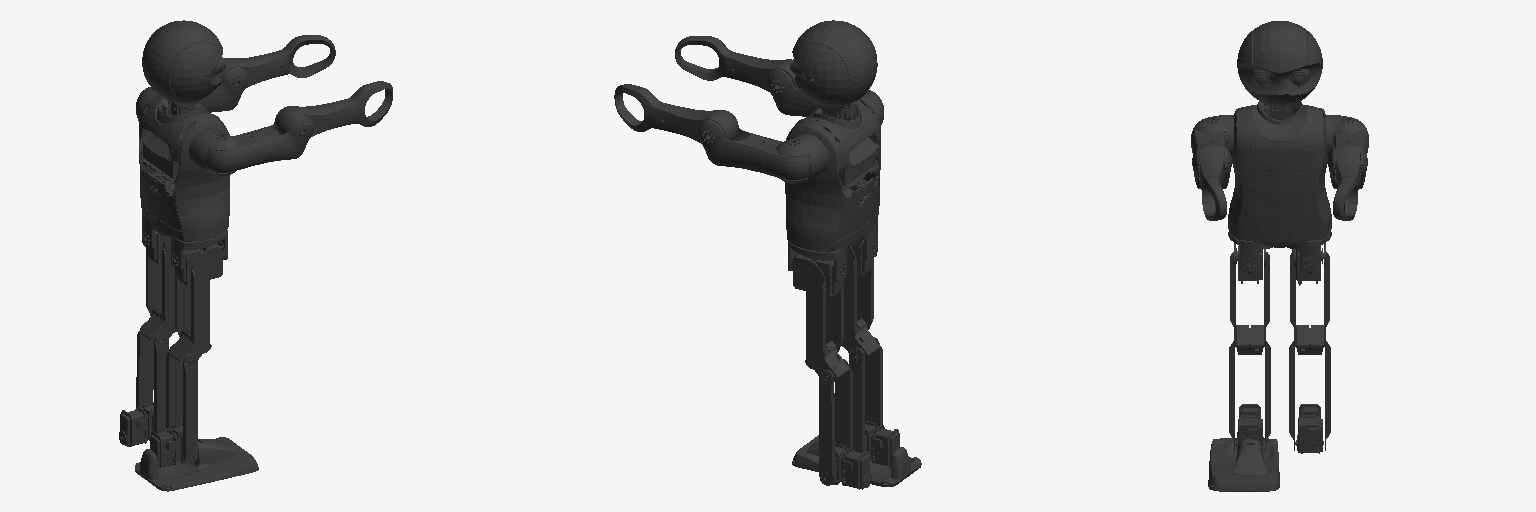
--- Render facts (derived) ---
The picture shows the robot from 3 angles, left to right: view 1: azimuth 30°, elevation 25°; view 2: azimuth 150°, elevation 25°; view 3: azimuth 270°, elevation 25°; orthographic projection.
Model onshape with 25 links and 24 joints (20 revolute, 4 fixed), rooted at torso, posed all joints at 0.
Links seen in each view (by area): view 1: torso, head, right_foot, right_upper_leg, right_upper_arm, right_lower_arm, right_lower_leg, left_lower_arm, left_upper_leg, left_lower_leg, left_upper_arm, left_ankle (+4 smaller); view 2: torso, head, left_upper_leg, left_upper_arm, left_lower_arm, left_lower_leg, right_lower_arm, right_upper_leg, right_lower_leg, right_foot, left_ankle, right_upper_arm (+4 smaller); view 3: torso, head, right_foot, left_upper_leg, right_upper_leg, left_lower_arm, right_lower_arm, left_ankle, right_lower_leg, left_lower_leg, left_upper_arm, right_upper_arm (+5 smaller).
Boxes of the visible links, left/top/right/bottom form: torso: left=139, top=95, right=229, bottom=241; head: left=142, top=20, right=225, bottom=108; right_foot: left=135, top=437, right=258, bottom=491; right_upper_leg: left=169, top=247, right=224, bottom=366; right_upper_arm: left=206, top=106, right=313, bottom=172; right_lower_arm: left=275, top=81, right=392, bottom=136; right_lower_leg: left=166, top=343, right=197, bottom=464; left_lower_arm: left=217, top=35, right=335, bottom=89; left_upper_leg: left=140, top=236, right=176, bottom=343; left_lower_leg: left=136, top=322, right=168, bottom=433; left_upper_arm: left=136, top=67, right=247, bottom=112; left_ankle: left=119, top=402, right=153, bottom=446; torso: left=785, top=98, right=880, bottom=251; head: left=790, top=20, right=877, bottom=112; left_upper_leg: left=791, top=258, right=849, bottom=383; left_upper_arm: left=697, top=110, right=809, bottom=179; left_lower_arm: left=614, top=84, right=737, bottom=143; left_lower_leg: left=819, top=359, right=852, bottom=485; right_lower_arm: left=675, top=36, right=798, bottom=91; right_upper_leg: left=842, top=246, right=879, bottom=360; right_lower_leg: left=849, top=337, right=882, bottom=452; right_foot: left=792, top=435, right=921, bottom=486; left_ankle: left=824, top=443, right=871, bottom=489; right_upper_arm: left=767, top=69, right=883, bottom=116; torso: left=1228, top=101, right=1331, bottom=247; head: left=1237, top=21, right=1322, bottom=105; right_foot: left=1208, top=432, right=1279, bottom=491; left_upper_leg: left=1290, top=243, right=1329, bottom=354; right_upper_leg: left=1230, top=243, right=1269, bottom=354; left_lower_arm: left=1333, top=144, right=1359, bottom=220; right_lower_arm: left=1200, top=144, right=1226, bottom=220; left_ankle: left=1295, top=404, right=1323, bottom=453; right_lower_leg: left=1229, top=341, right=1270, bottom=450; left_lower_leg: left=1289, top=341, right=1330, bottom=450; left_upper_arm: left=1328, top=127, right=1368, bottom=189; right_upper_arm: left=1191, top=127, right=1231, bottom=189.
Bounding box of the posed robot: 0.5139 × 0.3288 × 0.9021 m (x, y, z).
Meshes: 25 distinct files referenced, 24 mesh visuals loaded (24 binary STL); not drawn: 1 (reference not matched to a file when rendering).

robot.urdf — onshape:
<robot name="onshape">
<link name="torso">
<visual>
<origin xyz="0 0 0" rpy="0 -0 0" />
<geometry>
<mesh filename="torso_visual.stl" />
</geometry>
<material name="torso_material">
<color rgba="0.286275 0.286275 0.286275 1.0" />
</material>
</visual>
<collision>
<origin xyz="-0.0020010285079479218 -1.0497868061065674e-05 0.1085677845403552" rpy="0 -0 0" />
<geometry>
<box size="0.13950913399457932 0.1899828165769577 0.2618043217808008" /></geometry>
<material name="torso_material">
<color rgba="0.5 0.5 0.5 1.0" />
</material>
</collision>
<inertial>
<origin xyz="-0.000971341 -7.63301e-05 0.0898493" rpy="0 0 0" />
<mass value="1.83264" />
<inertia ixx="0.0154924" ixy="9.19136e-05" ixz="-0.00117023" iyy="0.0131549" iyz="2.21205e-06" izz="0.00592676" />
</inertial>
</link>

<link name="left_hip_yaw">
<visual>
<origin xyz="0 0 0" rpy="0 -0 0" />
<geometry>
<mesh filename="left_hip_yaw_visual.stl" />
</geometry>
<material name="left_hip_yaw_material">
<color rgba="0.286275 0.286275 0.286275 1.0" />
</material>
</visual>
<collision>
<origin xyz="0.0 -0.0072372425347566605 -0.03674998944263397" rpy="0 -0 0" />
<geometry>
<box size="0.10850000381469727 0.09402551129460335 0.07350000609436158" /></geometry>
<material name="left_hip_yaw_material">
<color rgba="0.5 0.5 0.5 1.0" />
</material>
</collision>
<inertial>
<origin xyz="-0.0021828 -0.00894798 -0.0247563" rpy="0 0 0" />
<mass value="0.0594023" />
<inertia ixx="0.000118627" ixy="-4.66981e-07" ixz="-1.50388e-06" iyy="5.24124e-05" iyz="1.01414e-07" izz="0.000103641" />
</inertial>
</link>

<link name="left_hip_roll">
<visual>
<origin xyz="0 0 0" rpy="0 -0 0" />
<geometry>
<mesh filename="left_hip_roll_visual.stl" />
</geometry>
<material name="left_hip_roll_material">
<color rgba="0.286275 0.286275 0.286275 1.0" />
</material>
</visual>
<collision>
<origin xyz="0.021138235460966825 0.0013499995693564415 -0.026825002394616604" rpy="0 -0 0" />
<geometry>
<box size="0.07245294097810984 0.05529999919235706 0.09385000355541706" /></geometry>
<material name="left_hip_roll_material">
<color rgba="0.5 0.5 0.5 1.0" />
</material>
</collision>
<inertial>
<origin xyz="0.015733 -0.000686158 -0.0217073" rpy="0 0 0" />
<mass value="0.395953" />
<inertia ixx="0.000314298" ixy="1.5275e-09" ixz="9.81372e-18" iyy="0.000375808" iyz="5.62038e-06" izz="0.000127785" />
</inertial>
</link>

<link name="left_upper_leg">
<visual>
<origin xyz="0 0 0" rpy="0 -0 0" />
<geometry>
<mesh filename="left_upper_leg_visual.stl" />
</geometry>
<material name="left_upper_leg_material">
<color rgba="0.286275 0.286275 0.286275 1.0" />
</material>
</visual>
<collision>
<origin xyz="0.10306360386312008 0.030367384664714336 0.0" rpy="0 -0 0" />
<geometry>
<box size="0.2462693639099598 0.09347053803503513 0.0729999989271164" /></geometry>
<material name="left_upper_leg_material">
<color rgba="0.5 0.5 0.5 1.0" />
</material>
</collision>
<inertial>
<origin xyz="0.144296 0.0401097 0.000258488" rpy="0 0 0" />
<mass value="0.313357" />
<inertia ixx="0.000224379" ixy="-0.00012767" ixz="-4.07576e-06" iyy="0.00166178" iyz="-8.94105e-07" izz="0.00160067" />
</inertial>
</link>

<link name="left_lower_leg">
<visual>
<origin xyz="0 0 0" rpy="0 -0 0" />
<geometry>
<mesh filename="left_lower_leg_visual.stl" />
</geometry>
<material name="left_lower_leg_material">
<color rgba="0.286275 0.286275 0.286275 1.0" />
</material>
</visual>
<collision>
<origin xyz="0.10010144207626581 0.0010000001639127731 0.0" rpy="0 -0 0" />
<geometry>
<box size="0.2292028944939375 0.03099999949336052 0.07800000160932541" /></geometry>
<material name="left_lower_leg_material">
<color rgba="0.5 0.5 0.5 1.0" />
</material>
</collision>
<inertial>
<origin xyz="0.1001 0.00388186 -1.61259e-08" rpy="0 0 0" />
<mass value="0.0893011" />
<inertia ixx="9.01254e-05" ixy="1.57184e-09" ixz="-7.87158e-11" iyy="0.000408951" iyz="1.16101e-11" izz="0.0003363" />
</inertial>
</link>

<link name="left_ankle">
<visual>
<origin xyz="0 0 0" rpy="0 -0 0" />
<geometry>
<mesh filename="left_ankle_visual.stl" />
</geometry>
<material name="left_ankle_material">
<color rgba="0.286275 0.286275 0.286275 1.0" />
</material>
</visual>
<collision>
<origin xyz="-0.01775588234886527 0.027093998156487942 -0.0016675600782036781" rpy="0 -0 0" />
<geometry>
<box size="0.06568823475390673 0.09438799507915974 0.05529999919235706" /></geometry>
<material name="left_ankle_material">
<color rgba="0.5 0.5 0.5 1.0" />
</material>
</collision>
<inertial>
<origin xyz="-0.015733 0.0219762 0.000512596" rpy="0 0 0" />
<mass value="0.329993" />
<inertia ixx="0.000265762" ixy="1.27304e-09" ixz="1.21168e-18" iyy="0.000157847" iyz="3.6829e-06" izz="0.000265677" />
</inertial>
</link>

<link name="left_foot">
<visual>
<origin xyz="0 0 0" rpy="0 -0 0" />
<geometry>
<mesh filename="left_foot_visual.stl" />
</geometry>
<material name="left_foot_material">
<color rgba="0.286275 0.286275 0.286275 1.0" />
</material>
</visual>
<collision>
<origin xyz="0.00950343906879425 0.010943666100502014 0.02115987241268158" rpy="0 -0 0" />
<geometry>
<box size="0.05699313431978226 0.13158147037029266 0.21582108736038208" /></geometry>
<material name="left_foot_material">
<color rgba="0.5 0.5 0.5 1.0" />
</material>
</collision>
<inertial>
<origin xyz="0.0248226 0.00798542 0.033284" rpy="0 0 0" />
<mass value="0.245581" />
<inertia ixx="0.00134722" ixy="-9.73697e-06" ixz="2.7382e-08" iyy="0.00108383" iyz="-1.34065e-05" izz="0.000332029" />
</inertial>
</link>

<link name="left_foot_base">
<visual>
<origin xyz="0 0 0" rpy="0 -0 0" />
<geometry>
<mesh filename="left_foot_base_visual.stl" />
</geometry>
<material name="left_foot_base_material">
<color rgba="0.615686 0.811765 0.929412 1.0" />
</material>
</visual>
<collision>
<origin xyz="0.0 0.0 4.999999873689376e-06" rpy="0 -0 0" />
<geometry>
<box size="9.999999747378752e-06 1.0163475963054225e-05 9.999999747378752e-06" /></geometry>
<material name="left_foot_base_material">
<color rgba="0.5 0.5 0.5 1.0" />
</material>
</collision>
<inertial>
<origin xyz="1.38778e-17 -3.77599e-35 5e-06" rpy="0 0 0" />
<mass value="1.01635e-23" />
<inertia ixx="0" ixy="0" ixz="0" iyy="0" iyz="0" izz="0" />
</inertial>
</link>

<joint name="left_foot_base" type="fixed">
<origin xyz="0.038 0 0" rpy="-2.39955e-29 -1.5708 0" />
<parent link="left_foot" />
<child link="left_foot_base" />
<axis xyz="0 0 1" />
<limit effort="1" velocity="20" />
<joint_properties friction="0.0" />
</joint>

<joint name="left_ankle_roll" type="revolute">
<origin xyz="0 -1.38778e-17 -2.08167e-17" rpy="1.5708 6.70375e-15 -2.75955e-14" />
<parent link="left_ankle" />
<child link="left_foot" />
<axis xyz="0 0 1" />
<limit effort="1" velocity="20" lower="-3.14159" upper="3.14159" />
<joint_properties friction="0.0" />
</joint>

<joint name="left_ankle_pitch" type="revolute">
<origin xyz="0.200203 -3.46945e-17 0" rpy="-9.74385e-15 5.86234e-16 -1.54846e-15" />
<parent link="left_lower_leg" />
<child link="left_ankle" />
<axis xyz="0 0 1" />
<limit effort="1" velocity="20" lower="-3.14159" upper="3.14159" />
<joint_properties friction="0.0" />
</joint>

<joint name="left_knee_pitch" type="revolute">
<origin xyz="0.206046 0.0569501 -1.44676e-14" rpy="-3.82657e-14 -3.77567e-15 0.00480121" />
<parent link="left_upper_leg" />
<child link="left_lower_leg" />
<axis xyz="0 0 1" />
<limit effort="1" velocity="20" lower="-3.14159" upper="3.14159" />
<joint_properties friction="0.0" />
</joint>

<joint name="left_hip_pitch" type="revolute">
<origin xyz="1.38778e-17 0 -1.04083e-17" rpy="-1.5708 -1.78655e-11 3.29833e-14" />
<parent link="left_hip_roll" />
<child link="left_upper_leg" />
<axis xyz="0 0 1" />
<limit effort="1" velocity="20" lower="-3.14159" upper="3.14159" />
<joint_properties friction="0.0" />
</joint>

<joint name="left_hip_roll" type="revolute">
<origin xyz="0.0221332 2.91434e-16 -0.0545" rpy="6.66729e-21 1.5708 0" />
<parent link="left_hip_yaw" />
<child link="left_hip_roll" />
<axis xyz="0 0 1" />
<limit effort="1" velocity="20" lower="-3.14159" upper="3.14159" />
<joint_properties friction="0.0" />
</joint>

<joint name="left_hip_yaw" type="revolute">
<origin xyz="7.63278e-17 0.055 0" rpy="-5.43064e-25 -3.21985e-24 6.16346e-16" />
<parent link="torso" />
<child link="left_hip_yaw" />
<axis xyz="0 0 1" />
<limit effort="1" velocity="20" lower="-3.14159" upper="3.14159" />
<joint_properties friction="0.0" />
</joint>

<link name="right_hip_yaw">
<visual>
<origin xyz="0 0 0" rpy="0 -0 0" />
<geometry>
<mesh filename="right_hip_yaw_visual.stl" />
</geometry>
<material name="right_hip_yaw_material">
<color rgba="0.286275 0.286275 0.286275 1.0" />
</material>
</visual>
<collision>
<origin xyz="0.0 0.0072372425347566605 -0.03674998944263397" rpy="0 -0 0" />
<geometry>
<box size="0.10850000381469727 0.09402551129460335 0.07350000609436158" /></geometry>
<material name="right_hip_yaw_material">
<color rgba="0.5 0.5 0.5 1.0" />
</material>
</collision>
<inertial>
<origin xyz="-0.00218277 0.0089479 -0.0247564" rpy="0 0 0" />
<mass value="0.0594022" />
<inertia ixx="0.000118626" ixy="4.67166e-07" ixz="-1.50417e-06" iyy="5.24117e-05" iyz="-1.01073e-07" izz="0.000103641" />
</inertial>
</link>

<link name="right_hip_roll">
<visual>
<origin xyz="0 0 0" rpy="0 -0 0" />
<geometry>
<mesh filename="right_hip_roll_visual.stl" />
</geometry>
<material name="right_hip_roll_material">
<color rgba="0.286275 0.286275 0.286275 1.0" />
</material>
</visual>
<collision>
<origin xyz="0.018049999605864286 -0.003150000236928463 -0.026950000785291195" rpy="0 -0 0" />
<geometry>
<box size="0.06627646926790476 0.05529999919235706 0.09410000033676624" /></geometry>
<material name="right_hip_roll_material">
<color rgba="0.5 0.5 0.5 1.0" />
</material>
</collision>
<inertial>
<origin xyz="0.015733 -0.000232251 -0.0218286" rpy="0 0 0" />
<mass value="0.395953" />
<inertia ixx="0.000316367" ixy="-9.04561e-09" ixz="-5.97158e-20" iyy="0.000378025" iyz="1.97787e-06" izz="0.000127637" />
</inertial>
</link>

<link name="right_upper_leg">
<visual>
<origin xyz="0 0 0" rpy="0 -0 0" />
<geometry>
<mesh filename="right_upper_leg_visual.stl" />
</geometry>
<material name="right_upper_leg_material">
<color rgba="0.286275 0.286275 0.286275 1.0" />
</material>
</visual>
<collision>
<origin xyz="0.10306360386312008 0.030367384664714336 -1.862645149230957e-09" rpy="0 -0 0" />
<geometry>
<box size="0.2462693639099598 0.09347053803503513 0.07300000265240669" /></geometry>
<material name="right_upper_leg_material">
<color rgba="0.5 0.5 0.5 1.0" />
</material>
</collision>
<inertial>
<origin xyz="0.144343 0.0400917 -0.000278506" rpy="0 0 0" />
<mass value="0.313809" />
<inertia ixx="0.000224588" ixy="-0.000159275" ixz="4.71407e-06" iyy="0.0016624" iyz="8.15625e-07" izz="0.0016013" />
</inertial>
</link>

<link name="right_lower_leg">
<visual>
<origin xyz="0 0 0" rpy="0 -0 0" />
<geometry>
<mesh filename="right_lower_leg_visual.stl" />
</geometry>
<material name="right_lower_leg_material">
<color rgba="0.286275 0.286275 0.286275 1.0" />
</material>
</visual>
<collision>
<origin xyz="0.10010144487023354 0.0010000001639127731 0.0" rpy="0 -0 0" />
<geometry>
<box size="0.22920288890600204 0.03099999949336052 0.07800000160932541" /></geometry>
<material name="right_lower_leg_material">
<color rgba="0.5 0.5 0.5 1.0" />
</material>
</collision>
<inertial>
<origin xyz="0.100103 0.00388186 1.61259e-08" rpy="0 0 0" />
<mass value="0.0893011" />
<inertia ixx="9.01254e-05" ixy="-1.57184e-09" ixz="-7.87158e-11" iyy="0.000408951" iyz="-1.16101e-11" izz="0.0003363" />
</inertial>
</link>

<link name="right_ankle">
<visual>
<origin xyz="0 0 0" rpy="0 -0 0" />
<geometry>
<mesh filename="right_ankle_visual.stl" />
</geometry>
<material name="right_ankle_material">
<color rgba="0.286275 0.286275 0.286275 1.0" />
</material>
</visual>
<collision>
<origin xyz="-0.017755881883203983 0.026943995617330074 -0.0016675600782036781" rpy="0 -0 0" />
<geometry>
<box size="0.0656882356852293 0.094087990000844 0.05529999919235706" /></geometry>
<material name="right_ankle_material">
<color rgba="0.5 0.5 0.5 1.0" />
</material>
</collision>
<inertial>
<origin xyz="-0.015733 0.0218226 0.000508968" rpy="0 0 0" />
<mass value="0.329993" />
<inertia ixx="0.000263648" ixy="7.53715e-09" ixz="2.47334e-19" iyy="0.000157848" iyz="3.69071e-06" izz="0.000263561" />
</inertial>
</link>

<link name="right_foot">
<visual>
<origin xyz="0 0 0" rpy="0 -0 0" />
<geometry>
<mesh filename="right_foot_visual.stl" />
</geometry>
<material name="right_foot_material">
<color rgba="0.286275 0.286275 0.286275 1.0" />
</material>
</visual>
<collision>
<origin xyz="0.009506719186902046 -0.010944709181785583 0.021159902215003967" rpy="0 -0 0" />
<geometry>
<box size="0.056986574083566666 0.13157938420772552 0.21582114696502686" /></geometry>
<material name="right_foot_material">
<color rgba="0.5 0.5 0.5 1.0" />
</material>
</collision>
<inertial>
<origin xyz="0.024823 -0.00798676 0.0332808" rpy="0 0 0" />
<mass value="0.245567" />
<inertia ixx="0.00134712" ixy="9.73589e-06" ixz="2.22656e-08" iyy="0.00108376" iyz="1.34039e-05" izz="0.000331997" />
</inertial>
</link>

<link name="right_foot_base">
<visual>
<origin xyz="0 0 0" rpy="0 -0 0" />
<geometry>
<mesh filename="right_foot_base_visual.stl" />
</geometry>
<material name="right_foot_base_material">
<color rgba="0.615686 0.811765 0.929412 1.0" />
</material>
</visual>
<collision>
<origin xyz="0.0 0.0 4.999999873689376e-06" rpy="0 -0 0" />
<geometry>
<box size="9.999999747378752e-06 1.0163475963054225e-05 9.999999747378752e-06" /></geometry>
<material name="right_foot_base_material">
<color rgba="0.5 0.5 0.5 1.0" />
</material>
</collision>
<inertial>
<origin xyz="0 0 5e-06" rpy="0 0 0" />
<mass value="1.01635e-23" />
<inertia ixx="0" ixy="0" ixz="0" iyy="0" iyz="0" izz="0" />
</inertial>
</link>

<joint name="right_foot_base" type="fixed">
<origin xyz="0.038 0 6.93889e-18" rpy="-1.26218e-29 -1.5708 0" />
<parent link="right_foot" />
<child link="right_foot_base" />
<axis xyz="0 0 1" />
<limit effort="1" velocity="20" />
<joint_properties friction="0.0" />
</joint>

<joint name="right_ankle_roll" type="revolute">
<origin xyz="1.27676e-15 1.249e-16 -8.46545e-16" rpy="1.5708 -1.11022e-15 7.94382e-15" />
<parent link="right_ankle" />
<child link="right_foot" />
<axis xyz="0 0 1" />
<limit effort="1" velocity="20" lower="-3.14159" upper="3.14159" />
<joint_properties friction="0.0" />
</joint>

<joint name="right_ankle_pitch" type="revolute">
<origin xyz="0.200203 4.85723e-17 -6.93889e-18" rpy="1.88738e-15 -2.83277e-16 1.06524e-14" />
<parent link="right_lower_leg" />
<child link="right_ankle" />
<axis xyz="0 0 1" />
<limit effort="1" velocity="20" lower="-3.14159" upper="3.14159" />
<joint_properties friction="0.0" />
</joint>

<joint name="right_knee_pitch" type="revolute">
<origin xyz="0.206046 0.0569501 -7.16788e-15" rpy="-7.0209e-15 3.9968e-14 -5.66214e-15" />
<parent link="right_upper_leg" />
<child link="right_lower_leg" />
<axis xyz="0 0 1" />
<limit effort="1" velocity="20" lower="-3.14159" upper="3.14159" />
<joint_properties friction="0.0" />
</joint>

<joint name="right_hip_pitch" type="revolute">
<origin xyz="-1.249e-16 0 3.81639e-17" rpy="-1.5708 -1.66533e-16 3.79139e-29" />
<parent link="right_hip_roll" />
<child link="right_upper_leg" />
<axis xyz="0 0 1" />
<limit effort="1" velocity="20" lower="-3.14159" upper="3.14159" />
<joint_properties friction="0.0" />
</joint>

<joint name="right_hip_roll" type="revolute">
<origin xyz="0.0221332 0 -0.0545" rpy="1.36238e-31 1.5708 0" />
<parent link="right_hip_yaw" />
<child link="right_hip_roll" />
<axis xyz="0 0 1" />
<limit effort="1" velocity="20" lower="-3.14159" upper="3.14159" />
<joint_properties friction="0.0" />
</joint>

<joint name="right_hip_yaw" type="revolute">
<origin xyz="-6.93889e-18 -0.055 -5.55112e-17" rpy="-1.44515e-26 2.05167e-26 2.3927e-15" />
<parent link="torso" />
<child link="right_hip_yaw" />
<axis xyz="0 0 1" />
<limit effort="1" velocity="20" lower="-3.14159" upper="3.14159" />
<joint_properties friction="0.0" />
</joint>

<link name="neck">
<visual>
<origin xyz="0 0 0" rpy="0 -0 0" />
<geometry>
<mesh filename="neck_visual.stl" />
</geometry>
<material name="neck_material">
<color rgba="0.286275 0.286275 0.286275 1.0" />
</material>
</visual>
<collision>
<origin xyz="-0.00024471059441566467 -0.002755293622612953 0.030682351323775947" rpy="0 -0 0" />
<geometry>
<box size="0.04019999876618385 0.05000000074505806 0.062835298711434" /></geometry>
<material name="neck_material">
<color rgba="0.5 0.5 0.5 1.0" />
</material>
</collision>
<inertial>
<origin xyz="-0.000244686 -0.000118134 0.0329091" rpy="0 0 0" />
<mass value="0.165011" />
<inertia ixx="6.78379e-05" ixy="-3.83231e-11" ixz="-3.6907e-11" iyy="5.66275e-05" iyz="2.05608e-06" izz="3.85117e-05" />
</inertial>
</link>

<link name="head">
<visual>
<origin xyz="0 0 0" rpy="0 -0 0" />
<geometry>
<mesh filename="head_visual.stl" />
</geometry>
<material name="head_material">
<color rgba="0.286275 0.286275 0.286275 1.0" />
</material>
</visual>
<collision>
<origin xyz="-0.06592875579372048 -0.0043320730328559875 -0.00020501762628555298" rpy="0 -0 0" />
<geometry>
<box size="0.16223767679184675 0.15564338862895966 0.15779687464237213" /></geometry>
<material name="head_material">
<color rgba="0.5 0.5 0.5 1.0" />
</material>
</collision>
<inertial>
<origin xyz="-0.0665563 -0.0103216 -0.000100617" rpy="0 0 0" />
<mass value="0.473503" />
<inertia ixx="0.0019685" ixy="6.68987e-06" ixz="8.0299e-06" iyy="0.0014533" iyz="-1.73055e-07" izz="0.00107445" />
</inertial>
</link>

<link name="left_camera">
<visual>
<origin xyz="0 0 0" rpy="0 -0 0" />
<geometry>
<mesh filename="left_camera_visual.stl" />
</geometry>
<material name="left_camera_material">
<color rgba="0.615686 0.811765 0.929412 1.0" />
</material>
</visual>
<collision>
<origin xyz="0.0 0.0 4.999999873717131e-06" rpy="0 -0 0" />
<geometry>
<box size="9.999999747378752e-06 1.0163475963054225e-05 9.99999974732324e-06" /></geometry>
<material name="left_camera_material">
<color rgba="0.5 0.5 0.5 1.0" />
</material>
</collision>
<inertial>
<origin xyz="-1.38778e-17 1.2133e-35 5e-06" rpy="0 0 0" />
<mass value="1.01635e-15" />
<inertia ixx="0" ixy="0" ixz="0" iyy="2.4127e-81" iyz="0" izz="2.4127e-81" />
</inertial>
</link>

<joint name="left_camera" type="fixed">
<origin xyz="-0.0648803 -0.0699522 0.033795" rpy="1.5708 -1.63801e-13 -1.53589" />
<parent link="head" />
<child link="left_camera" />
<axis xyz="0 0 1" />
<limit effort="1" velocity="20" />
<joint_properties friction="0.0" />
</joint>

<link name="right_camera">
<visual>
<origin xyz="0 0 0" rpy="0 -0 0" />
<geometry>
<mesh filename="right_camera_visual.stl" />
</geometry>
<material name="right_camera_material">
<color rgba="0.615686 0.811765 0.929412 1.0" />
</material>
</visual>
<collision>
<origin xyz="0.0 0.0 4.999999873689376e-06" rpy="0 -0 0" />
<geometry>
<box size="9.999999747378752e-06 1.0163475963054225e-05 9.999999747378752e-06" /></geometry>
<material name="right_camera_material">
<color rgba="0.5 0.5 0.5 1.0" />
</material>
</collision>
<inertial>
<origin xyz="-6.93892e-18 3.23117e-35 5e-06" rpy="0 0 0" />
<mass value="1.01635e-23" />
<inertia ixx="0" ixy="0" ixz="0" iyy="0" iyz="0" izz="0" />
</inertial>
</link>

<joint name="right_camera" type="fixed">
<origin xyz="-0.0648803 -0.0699522 -0.034205" rpy="1.5708 -1.63801e-13 -1.53589" />
<parent link="head" />
<child link="right_camera" />
<axis xyz="0 0 1" />
<limit effort="1" velocity="20" />
<joint_properties friction="0.0" />
</joint>

<joint name="head_pitch" type="revolute">
<origin xyz="-0.00024471 -0.000255294 0.0481" rpy="1.5708 1.5708 0" />
<parent link="neck" />
<child link="head" />
<axis xyz="0 0 1" />
<limit effort="1" velocity="20" lower="-3.14159" upper="3.14159" />
<joint_properties friction="0.0" />
</joint>

<joint name="neck_yaw" type="revolute">
<origin xyz="-0.008 2.09034e-16 0.20825" rpy="-1.1045e-15 2.10942e-15 -3.14159" />
<parent link="torso" />
<child link="neck" />
<axis xyz="0 0 1" />
<limit effort="1" velocity="20" lower="-3.14159" upper="3.14159" />
<joint_properties friction="0.0" />
</joint>

<link name="left_shoulder">
<visual>
<origin xyz="0 0 0" rpy="0 -0 0" />
<geometry>
<mesh filename="left_shoulder_visual.stl" />
</geometry>
<material name="left_shoulder_material">
<color rgba="0.286275 0.286275 0.286275 1.0" />
</material>
</visual>
<collision>
<origin xyz="0.0 -0.0007210467010736465 0.039686582237482115" rpy="0 -0 0" />
<geometry>
<box size="0.07999999821186066 0.08144209161400795 0.0793731525540351" /></geometry>
<material name="left_shoulder_material">
<color rgba="0.5 0.5 0.5 1.0" />
</material>
</collision>
<inertial>
<origin xyz="-3.61374e-05 -0.00254925 0.0287427" rpy="0 0 0" />
<mass value="0.0845502" />
<inertia ixx="7.30295e-05" ixy="1.04146e-07" ixz="-7.55192e-08" iyy="9.74311e-05" iyz="-3.99116e-06" izz="9.33613e-05" />
</inertial>
</link>

<link name="left_upper_arm">
<visual>
<origin xyz="0 0 0" rpy="0 -0 0" />
<geometry>
<mesh filename="left_upper_arm_visual.stl" />
</geometry>
<material name="left_upper_arm_material">
<color rgba="0.286275 0.286275 0.286275 1.0" />
</material>
</visual>
<collision>
<origin xyz="0.07303228229284286 -1.3921409845352173e-05 0.010696256533265114" rpy="0 -0 0" />
<geometry>
<box size="0.22483809292316437 0.07902275025844574 0.08959516510367393" /></geometry>
<material name="left_upper_arm_material">
<color rgba="0.5 0.5 0.5 1.0" />
</material>
</collision>
<inertial>
<origin xyz="0.045902 0.000372495 9.27204e-06" rpy="0 0 0" />
<mass value="0.29923" />
<inertia ixx="0.000626399" ixy="2.62861e-05" ixz="-3.50557e-05" iyy="0.000588449" iyz="6.36267e-06" izz="0.000985251" />
</inertial>
</link>

<link name="left_lower_arm">
<visual>
<origin xyz="0 0 0" rpy="0 -0 0" />
<geometry>
<mesh filename="left_lower_arm_visual.stl" />
</geometry>
<material name="left_lower_arm_material">
<color rgba="0.286275 0.286275 0.286275 1.0" />
</material>
</visual>
<collision>
<origin xyz="-0.0024787113070487976 -0.09564930573105812 -0.0025215083733201027" rpy="0 -0 0" />
<geometry>
<box size="0.08257202059030533 0.25829844921827316 0.050921617075800896" /></geometry>
<material name="left_lower_arm_material">
<color rgba="0.5 0.5 0.5 1.0" />
</material>
</collision>
<inertial>
<origin xyz="-0.000605553 -0.0509966 6.9181e-05" rpy="0 0 0" />
<mass value="0.287325" />
<inertia ixx="0.000778471" ixy="-5.29345e-05" ixz="1.09973e-05" iyy="0.000543727" iyz="3.47398e-05" izz="0.0011506" />
</inertial>
</link>

<joint name="left_elbow_pitch" type="revolute">
<origin xyz="0.1575 -5.57465e-05 0.02695" rpy="-1.5708 1.5708 0" />
<parent link="left_upper_arm" />
<child link="left_lower_arm" />
<axis xyz="0 0 1" />
<limit effort="1" velocity="20" lower="-3.14159" upper="3.14159" />
<joint_properties friction="0.0" />
</joint>

<joint name="left_shoulder_roll" type="revolute">
<origin xyz="0 -0.0100012 0.0479124" rpy="1.5708 3.06087e-14 -1.5708" />
<parent link="left_shoulder" />
<child link="left_upper_arm" />
<axis xyz="0 0 1" />
<limit effort="1" velocity="20" lower="-3.14159" upper="3.14159" />
<joint_properties friction="0.0" />
</joint>

<joint name="left_shoulder_pitch" type="revolute">
<origin xyz="-5.659e-18 0.077 0.17725" rpy="-1.5708 1.5708 0" />
<parent link="torso" />
<child link="left_shoulder" />
<axis xyz="0 0 1" />
<limit effort="1" velocity="20" lower="-3.14159" upper="3.14159" />
<joint_properties friction="0.0" />
</joint>

<link name="right_shoulder">
<visual>
<origin xyz="0 0 0" rpy="0 -0 0" />
<geometry>
<mesh filename="right_shoulder_visual.stl" />
</geometry>
<material name="right_shoulder_material">
<color rgba="0.286275 0.286275 0.286275 1.0" />
</material>
</visual>
<collision>
<origin xyz="0.0 -0.0007335953414440155 -0.03968089744448666" rpy="0 -0 0" />
<geometry>
<box size="0.07999999821186066 0.08146718889474869 0.07936178296804419" /></geometry>
<material name="right_shoulder_material">
<color rgba="0.5 0.5 0.5 1.0" />
</material>
</collision>
<inertial>
<origin xyz="-3.46247e-05 -0.00254925 -0.0287427" rpy="0 0 0" />
<mass value="0.0845501" />
<inertia ixx="7.30296e-05" ixy="1.04639e-07" ixz="7.5393e-08" iyy="9.74312e-05" iyz="3.99136e-06" izz="9.33615e-05" />
</inertial>
</link>

<link name="right_upper_arm">
<visual>
<origin xyz="0 0 0" rpy="0 -0 0" />
<geometry>
<mesh filename="right_upper_arm_visual.stl" />
</geometry>
<material name="right_upper_arm_material">
<color rgba="0.286275 0.286275 0.286275 1.0" />
</material>
</visual>
<collision>
<origin xyz="0.07302819937467575 1.3921409845352173e-05 0.010696256533265114" rpy="0 -0 0" />
<geometry>
<box size="0.22482992708683014 0.07902275025844574 0.08959516510367393" /></geometry>
<material name="right_upper_arm_material">
<color rgba="0.5 0.5 0.5 1.0" />
</material>
</collision>
<inertial>
<origin xyz="0.0458986 -0.000371241 0.000118834" rpy="0 0 0" />
<mass value="0.299218" />
<inertia ixx="0.000626351" ixy="3.14812e-05" ixz="-3.41719e-05" iyy="0.000588348" iyz="-6.3835e-06" izz="0.000985155" />
</inertial>
</link>

<link name="right_lower_arm">
<visual>
<origin xyz="0 0 0" rpy="0 -0 0" />
<geometry>
<mesh filename="right_lower_arm_visual.stl" />
</geometry>
<material name="right_lower_arm_material">
<color rgba="0.286275 0.286275 0.286275 1.0" />
</material>
</visual>
<collision>
<origin xyz="-0.0024787113070487976 -0.0956590510904789 0.0025391047820448875" rpy="0 -0 0" />
<geometry>
<box size="0.08257202059030533 0.2583179399371147 0.050956809893250465" /></geometry>
<material name="right_lower_arm_material">
<color rgba="0.5 0.5 0.5 1.0" />
</material>
</collision>
<inertial>
<origin xyz="-0.00060488 -0.0510002 -6.85101e-05" rpy="0 0 0" />
<mass value="0.28735" />
<inertia ixx="0.000778625" ixy="3.06735e-05" ixz="9.86034e-06" iyy="0.000543818" iyz="-3.47472e-05" izz="0.00115082" />
</inertial>
</link>

<joint name="right_elbow_pitch" type="revolute">
<origin xyz="0.1575 5.57465e-05 0.02695" rpy="-1.5708 1.5708 0" />
<parent link="right_upper_arm" />
<child link="right_lower_arm" />
<axis xyz="0 0 1" />
<limit effort="1" velocity="20" lower="-3.14159" upper="3.14159" />
<joint_properties friction="0.0" />
</joint>

<joint name="right_shoulder_roll" type="revolute">
<origin xyz="0 -0.0100012 -0.0479124" rpy="1.5708 -4.32987e-15 -1.5708" />
<parent link="right_shoulder" />
<child link="right_upper_arm" />
<axis xyz="0 0 1" />
<limit effort="1" velocity="20" lower="-3.14159" upper="3.14159" />
<joint_properties friction="0.0" />
</joint>

<joint name="right_shoulder_pitch" type="revolute">
<origin xyz="-3.55526e-17 -0.077 0.17725" rpy="-1.5708 1.5708 0" />
<parent link="torso" />
<child link="right_shoulder" />
<axis xyz="0 0 1" />
<limit effort="1" velocity="20" lower="-3.14159" upper="3.14159" />
<joint_properties friction="0.0" />
</joint>


</robot>
